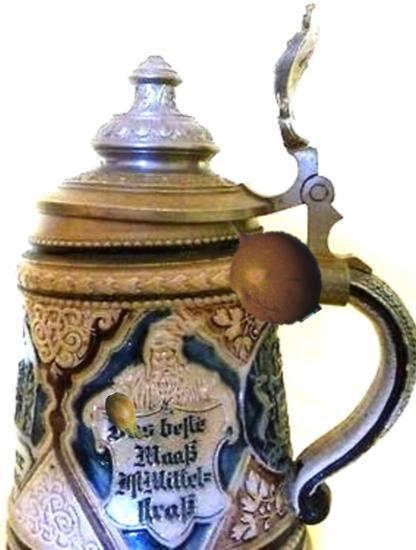Cactus: (97, 391, 151, 445)
Granadilla: (207, 205, 333, 331)
